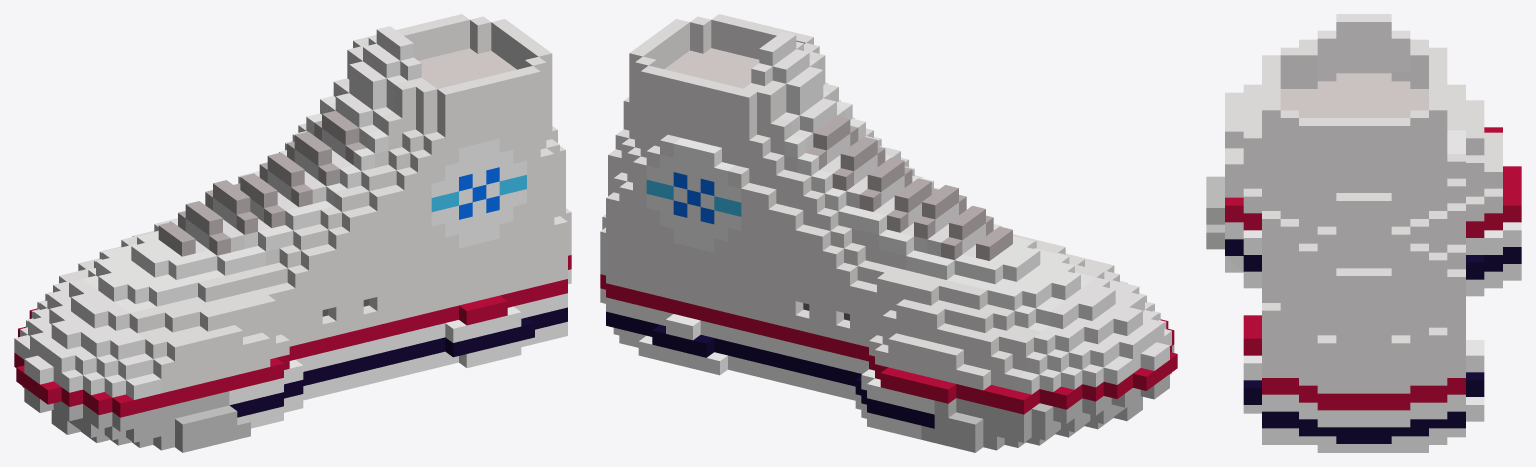
The model's file is Red Stripe.fbx.
The picture shows the model from 3 angles, left to right: view 1: azimuth 30°, elevation 25°; view 2: azimuth 150°, elevation 25°; view 3: azimuth 270°, elevation 25°; orthographic projection. The views are drawn at different scales.
Parts seen in each view (by area): view 1: Untitled; view 2: Untitled; view 3: Untitled.
Boxes of the visible parts, <box> form: Untitled: <box>14,14,571,452</box>; Untitled: <box>600,14,1177,452</box>; Untitled: <box>1206,14,1521,452</box>.
Size of the model in its own units: 390 by 210 by 170.
